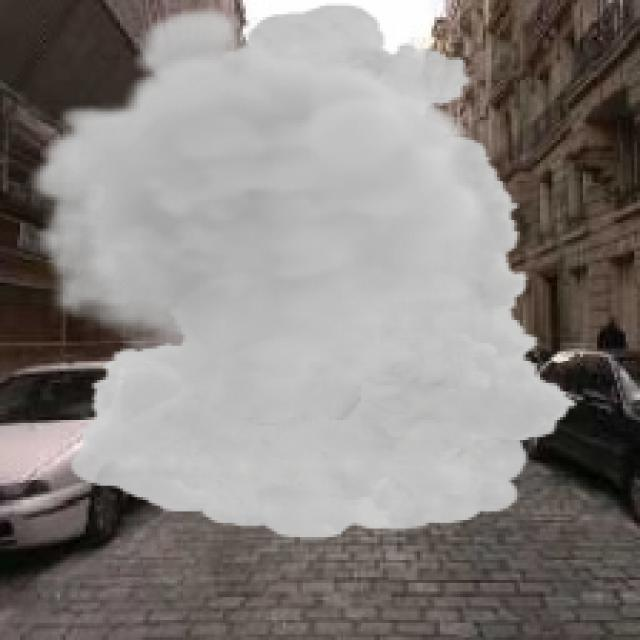smoke: (26, 3, 580, 540)
